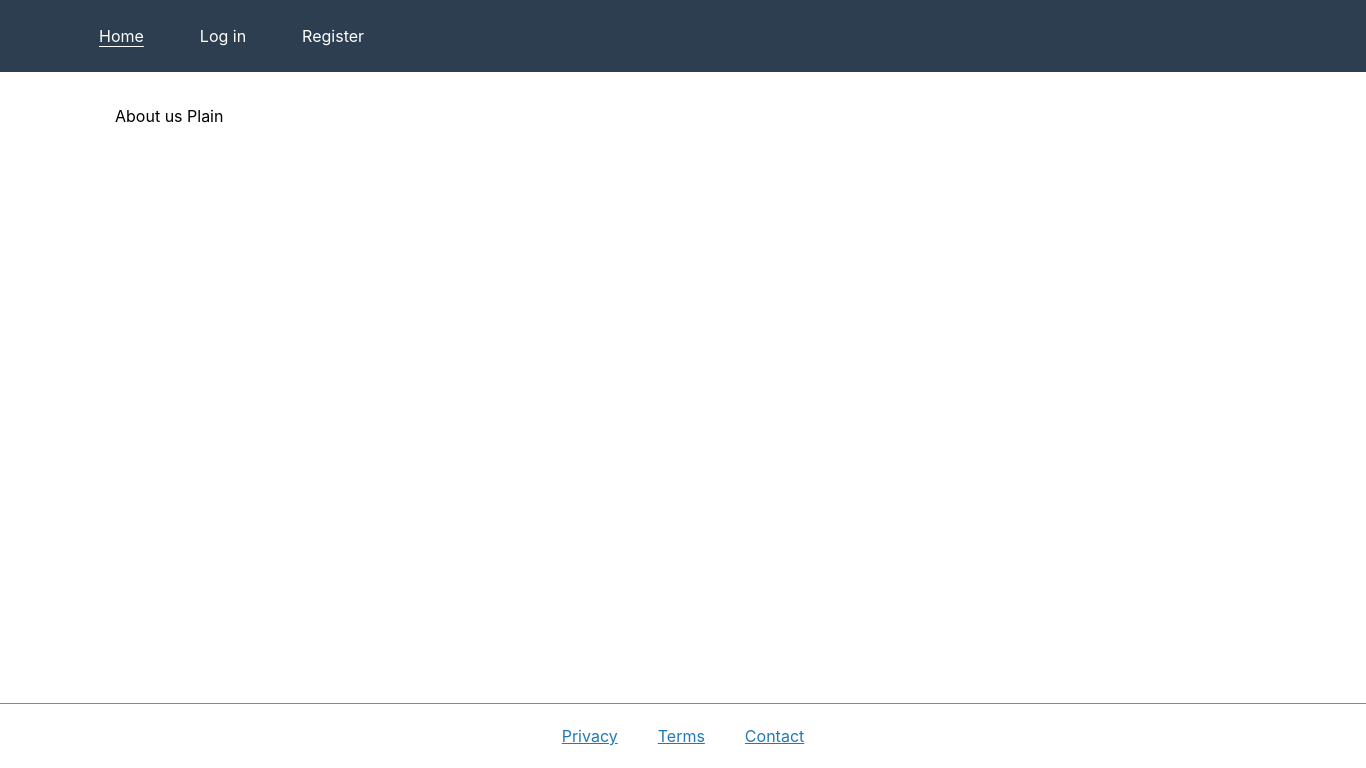
Layout › focuses the main area on a page without a heading
Click the link "Plain". click: (205,116)
box: [187,106,223,126]
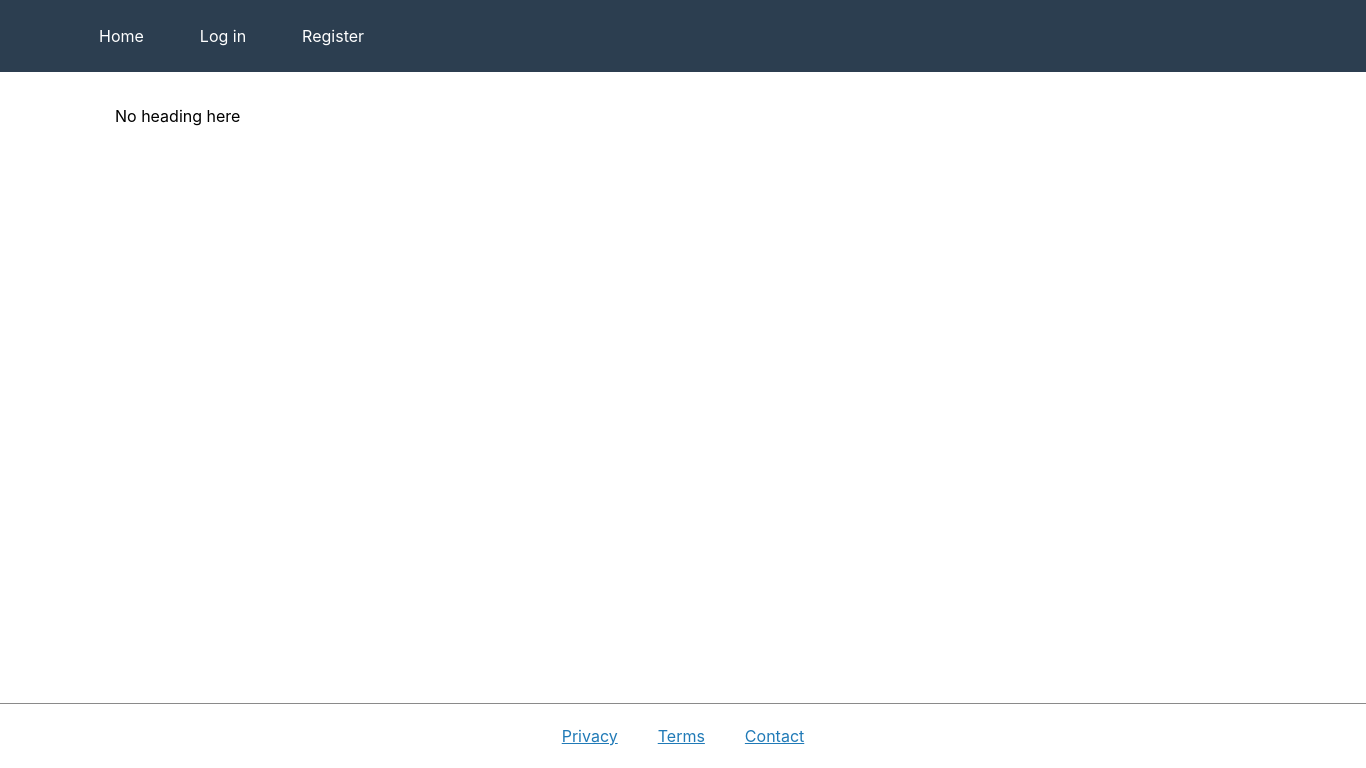
Result: the text "No heading here" is shown at [115,106,240,126]
